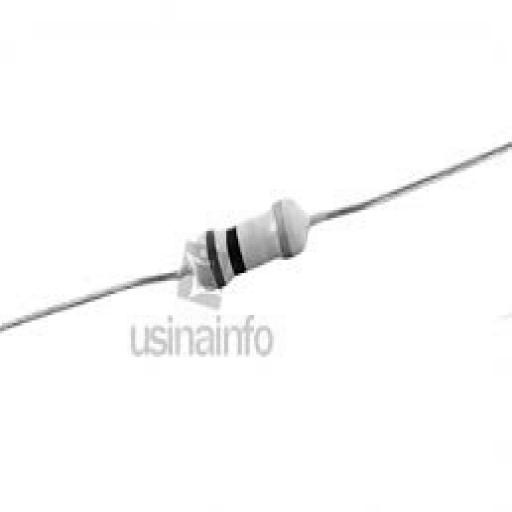RESISTOR: (116, 176, 334, 356)
